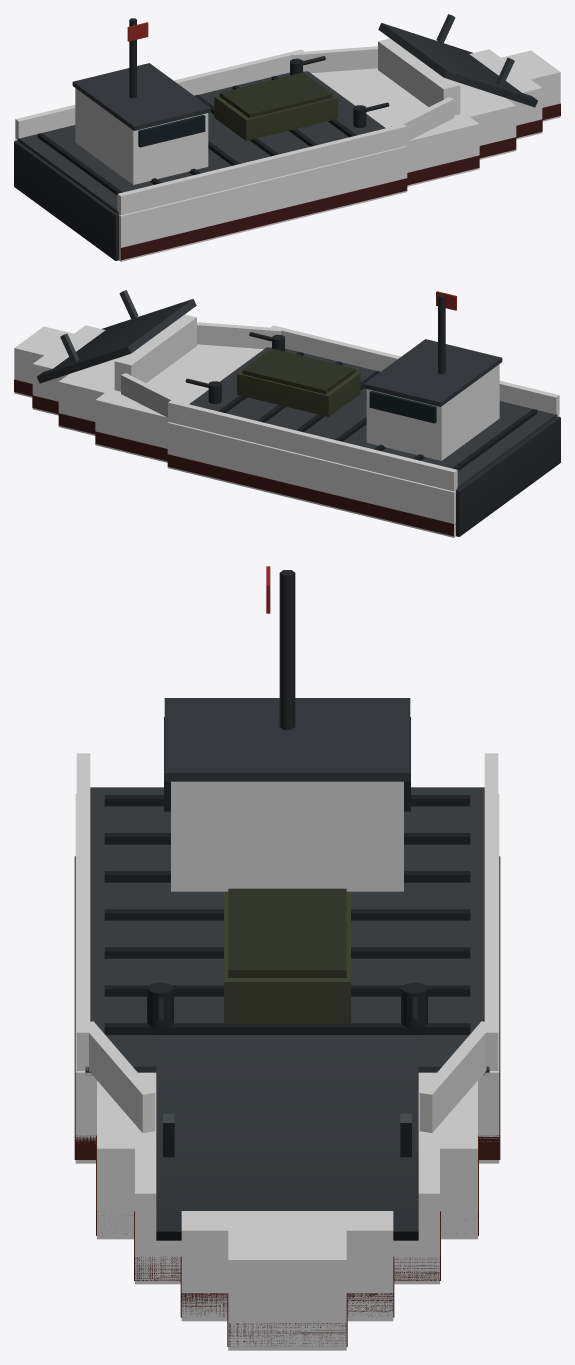
File: m_lander_a1028405.glb
3 views of the same model, one above another, from view 1: azimuth 30°, elevation 25°; view 2: azimuth 150°, elevation 25°; view 3: azimuth 270°, elevation 25° (orthographic). The views are drawn at different scales.
Visible parts, largest first — view 1: mesh; view 2: mesh; view 3: mesh.
Boxes of the visible parts, x1,y1,x2,y2 form: mesh: (14, 14, 560, 261); mesh: (14, 290, 560, 537); mesh: (74, 566, 500, 1350).
Bounding box in the file's own units: 57.72 × 21.5 × 22.1.
